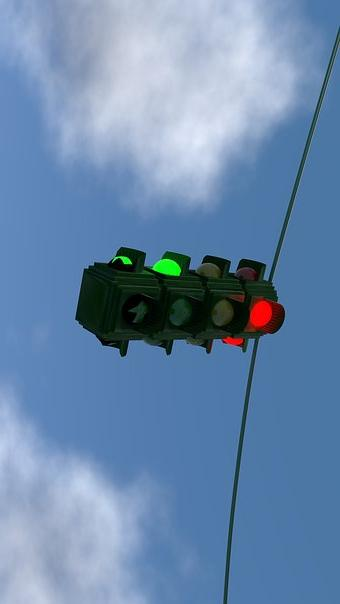trafic: (93, 276, 279, 342)
